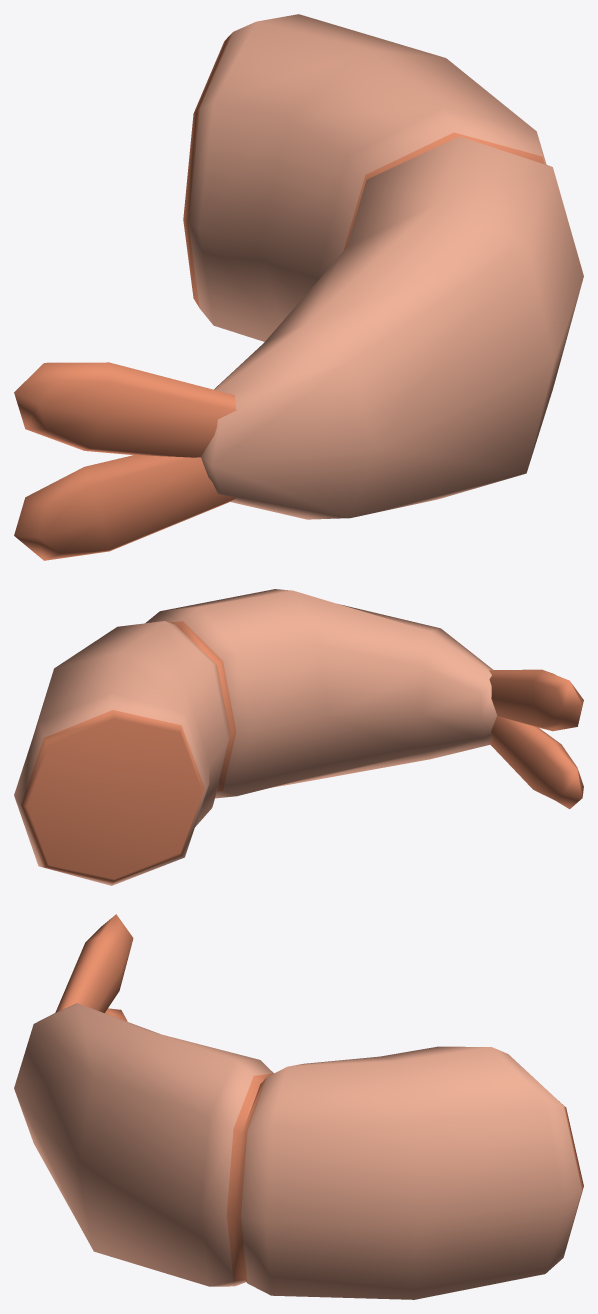
File: Shrimp_1_Peeled_1_Half_1.fbx
3 renders of one model, top to bottom at view 1: azimuth 30°, elevation 25°; view 2: azimuth 150°, elevation 25°; view 3: azimuth 270°, elevation 25°, orthographic. The views are drawn at different scales.
Visible parts, largest first — view 1: Shrimp_1_Peeled_1_Half_1; view 2: Shrimp_1_Peeled_1_Half_1; view 3: Shrimp_1_Peeled_1_Half_1.
Boxes of the visible parts, bbox=[...] form: Shrimp_1_Peeled_1_Half_1: bbox=[14, 14, 583, 560]; Shrimp_1_Peeled_1_Half_1: bbox=[14, 589, 583, 885]; Shrimp_1_Peeled_1_Half_1: bbox=[14, 914, 583, 1299].
Bounding box in the file's own units: 8.8 × 3.95 × 8.72.
